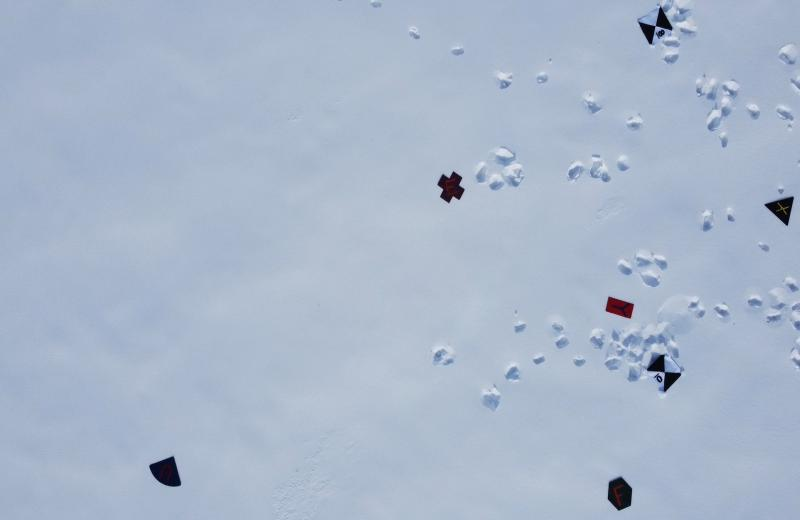Cross: (437, 170, 465, 204)
Hexagon: (606, 475, 634, 512)
Quarter Circle: (148, 453, 184, 490)
Rectangle: (606, 292, 636, 321)
Triangle: (763, 193, 796, 227)
